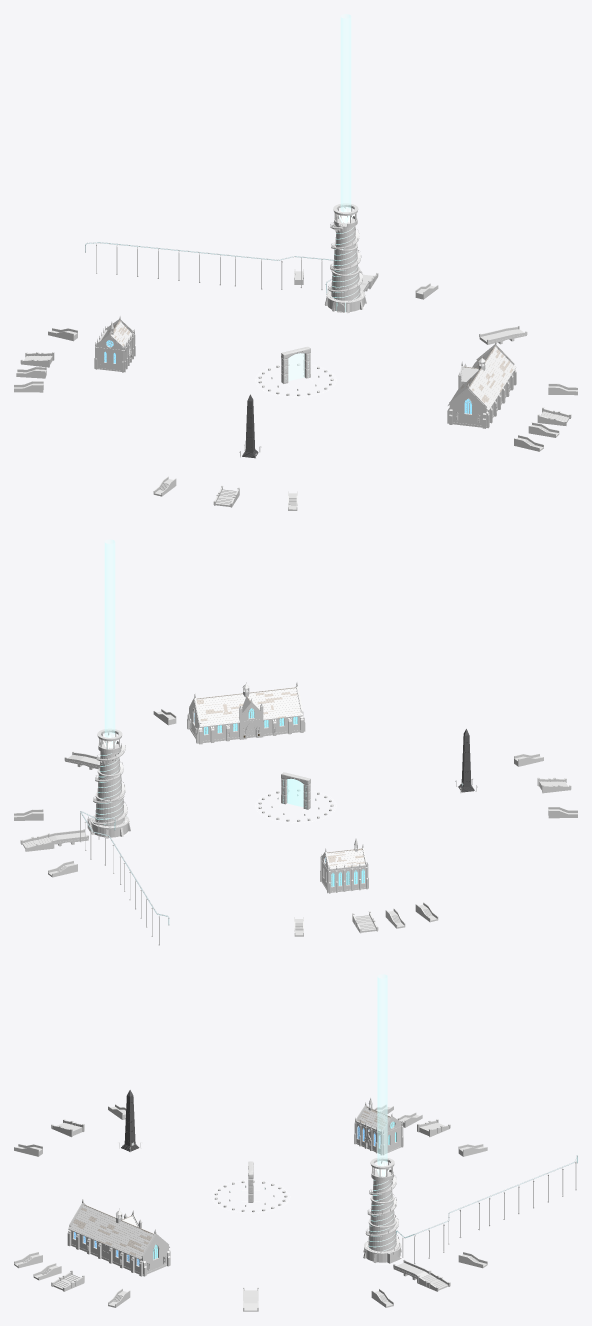
File: bld_portal.glb
3 renders of one model, top to bottom at view 1: azimuth 30°, elevation 25°; view 2: azimuth 150°, elevation 25°; view 3: azimuth 270°, elevation 25°, orthographic. The views are drawn at different scales.
Parts seen in each view (by area): view 1: FARO_Body, FARO_Beam, SALON_HAZANAS_Body, SALON_HAZANAS_Roof, SANTUARIO_Body; view 2: FARO_Body, SALON_HAZANAS_Roof, SALON_HAZANAS_Body, FARO_Beam, SANTUARIO_Body, SANTUARIO_Roof, PORTAL_Arch, OBELISK_Body; view 3: FARO_Body, SALON_HAZANAS_Roof, SALON_HAZANAS_Body, FARO_Beam, SANTUARIO_Body, OBELISK_Body, SANTUARIO_Roof.
Boxes of the visible parts, x1=… form: FARO_Body: x1=325, y1=203, x2=366, y2=313; FARO_Beam: x1=340, y1=14, x2=351, y2=211; SALON_HAZANAS_Body: x1=447, y1=340, x2=516, y2=428; SALON_HAZANAS_Roof: x1=448, y1=346, x2=516, y2=410; SANTUARIO_Body: x1=94, y1=316, x2=135, y2=372; FARO_Body: x1=87, y1=728, x2=130, y2=839; SALON_HAZANAS_Roof: x1=196, y1=682, x2=302, y2=727; SALON_HAZANAS_Body: x1=187, y1=682, x2=305, y2=744; FARO_Beam: x1=104, y1=539, x2=115, y2=737; SANTUARIO_Body: x1=320, y1=844, x2=368, y2=893; SANTUARIO_Roof: x1=327, y1=836, x2=365, y2=868; PORTAL_Arch: x1=279, y1=772, x2=310, y2=812; OBELISK_Body: x1=458, y1=729, x2=474, y2=792; FARO_Body: x1=363, y1=1157, x2=401, y2=1264; SALON_HAZANAS_Roof: x1=68, y1=1204, x2=169, y2=1259; SALON_HAZANAS_Body: x1=67, y1=1199, x2=170, y2=1276; FARO_Beam: x1=377, y1=974, x2=387, y2=1165; SANTUARIO_Body: x1=354, y1=1102, x2=403, y2=1155; OBELISK_Body: x1=121, y1=1090, x2=139, y2=1151; SANTUARIO_Roof: x1=358, y1=1097, x2=390, y2=1130.
Size of what is drawn, in the model's own units: 190 by 122 by 218.
Materials: 24 (14 with a texture image).
